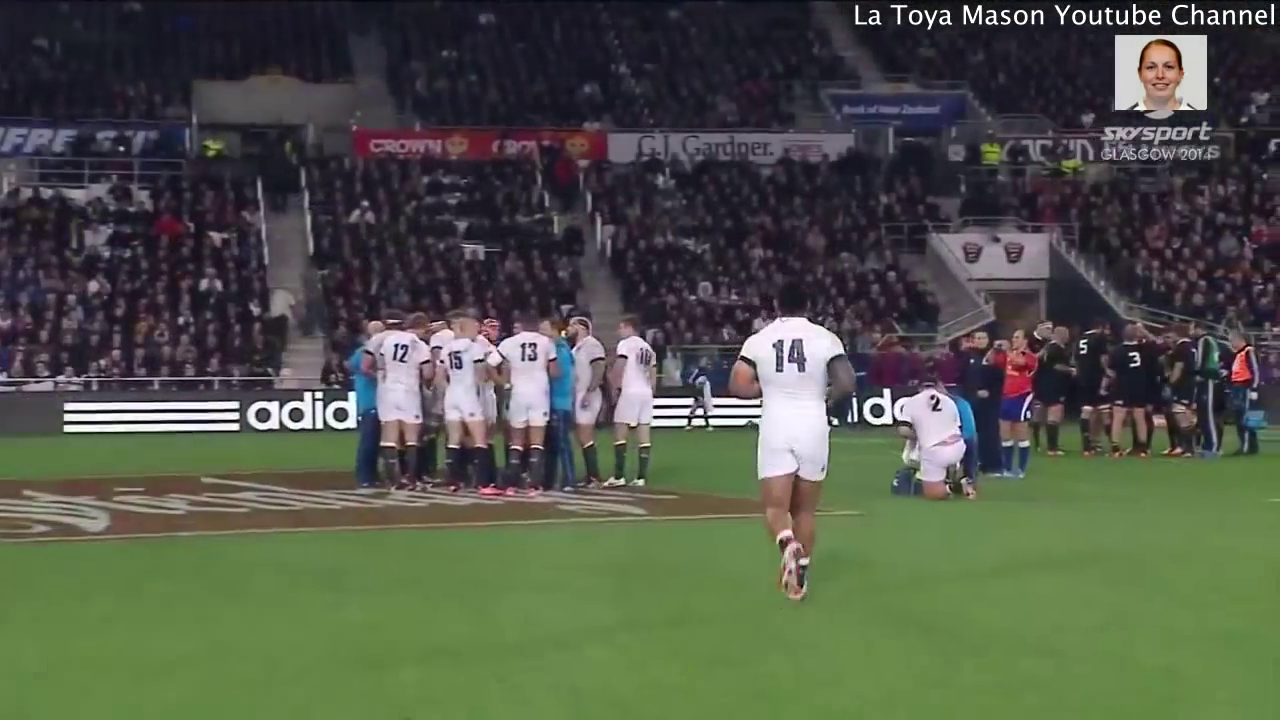player: (726, 292, 854, 609), (485, 319, 557, 498), (431, 308, 494, 494), (367, 314, 427, 496), (563, 315, 618, 491), (609, 304, 656, 504), (897, 379, 979, 492), (988, 328, 1041, 488), (1153, 321, 1195, 472), (1221, 331, 1265, 462), (1107, 327, 1153, 452), (1038, 320, 1077, 451), (1076, 324, 1113, 459), (1193, 324, 1223, 464)
